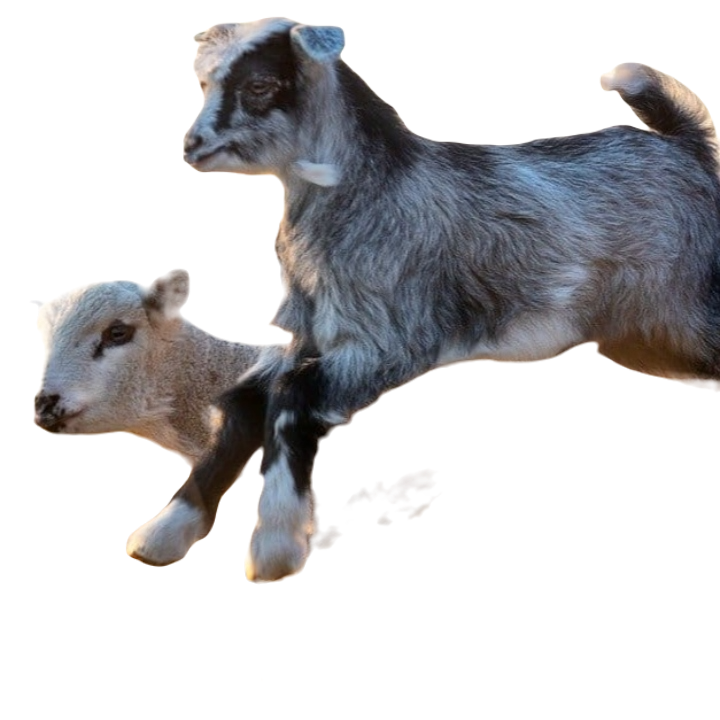Goat: (126, 15, 719, 578)
